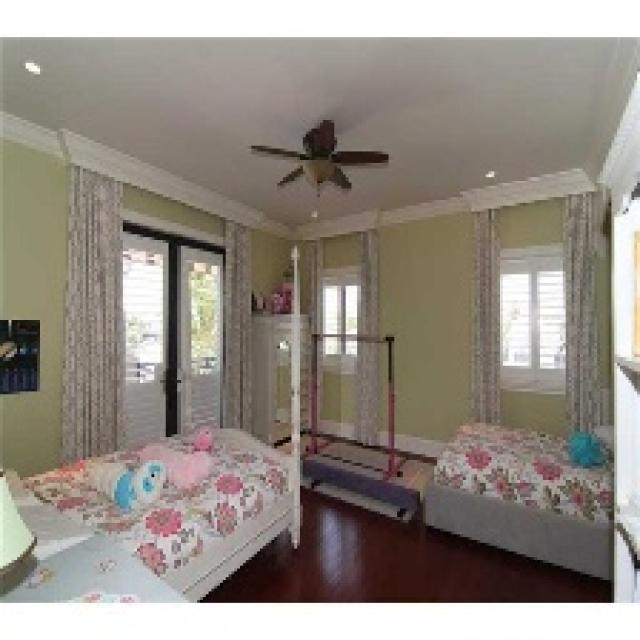Bed: (20, 423, 300, 600), (420, 417, 611, 580)
